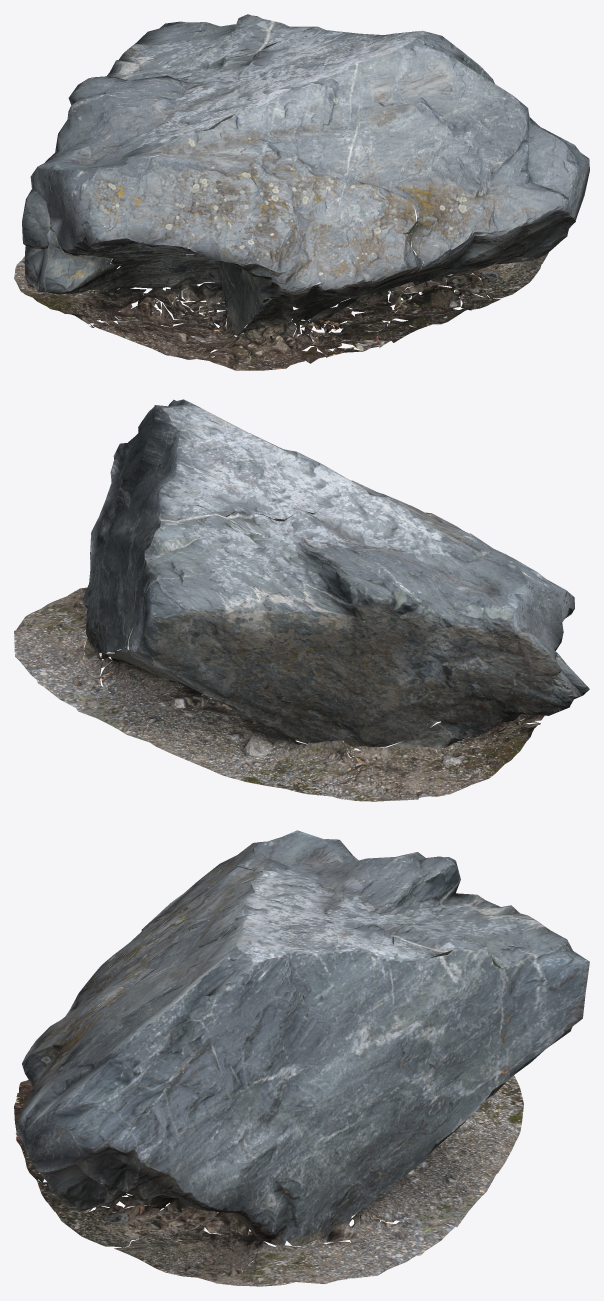
Rendered from rock_gray.glb.
The picture shows the model from 3 angles, top to bottom: view 1: azimuth 30°, elevation 25°; view 2: azimuth 150°, elevation 25°; view 3: azimuth 270°, elevation 25°; orthographic projection. The views are drawn at different scales.
Parts seen in each view (by area): view 1: sutr_tmave_sedy_sutr_tmave_sedy_0; view 2: sutr_tmave_sedy_sutr_tmave_sedy_0; view 3: sutr_tmave_sedy_sutr_tmave_sedy_0.
Part boxes in pixels (x1,y1,x2,y2): sutr_tmave_sedy_sutr_tmave_sedy_0: (14,14,589,370); sutr_tmave_sedy_sutr_tmave_sedy_0: (14,399,589,801); sutr_tmave_sedy_sutr_tmave_sedy_0: (14,830,589,1286).
Bounding box in the file's own units: 1.8 × 0.7712 × 1.47.
1 material, 1 textured.
